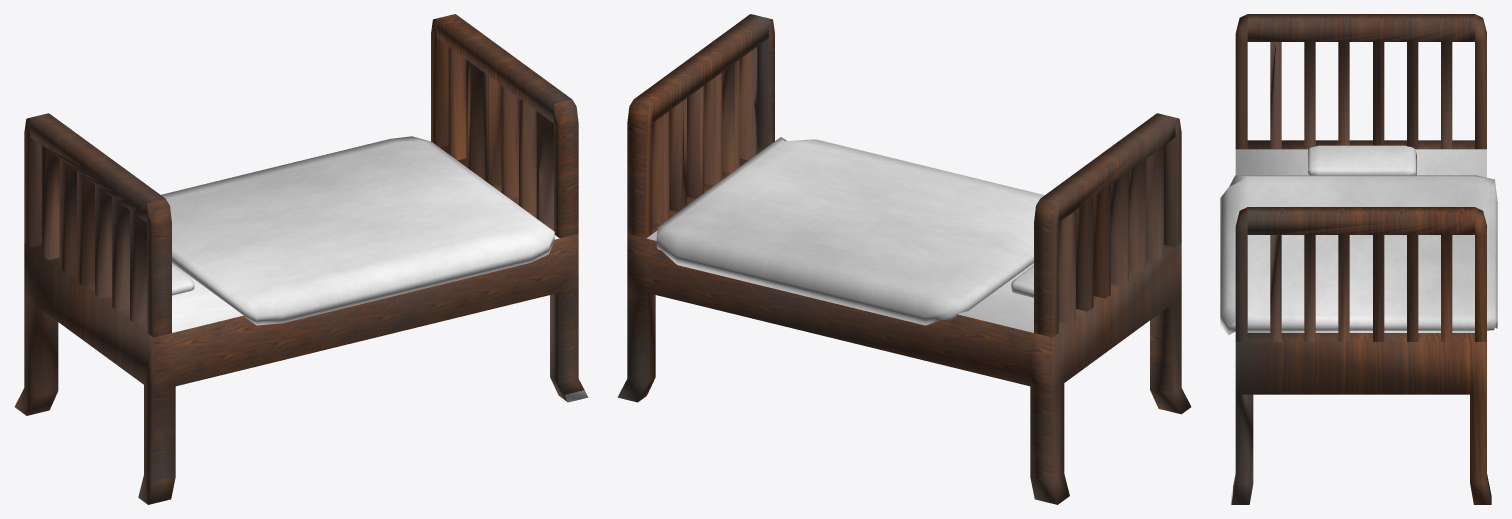
The model's file is bed.fbx.
The picture shows the model from 3 angles, left to right: view 1: azimuth 30°, elevation 25°; view 2: azimuth 150°, elevation 25°; view 3: azimuth 270°, elevation 25°; orthographic projection. The views are drawn at different scales.
Visible parts, largest first — view 1: ベッド１, obj1; view 2: ベッド１, obj1; view 3: ベッド１, obj1, obj2.
Part boxes in pixels (x1,y1,x2,y2): ベッド１: (14,14,588,504); obj1: (161,136,554,325); ベッド１: (617,14,1191,504); obj1: (656,137,1044,325); ベッド１: (1231,14,1491,504); obj1: (1220,175,1497,335); obj2: (1308,145,1416,175).
Bounding box in the file's own units: 72.66 × 46.31 × 40.75.
Materials: 1 (1 with a texture image).
